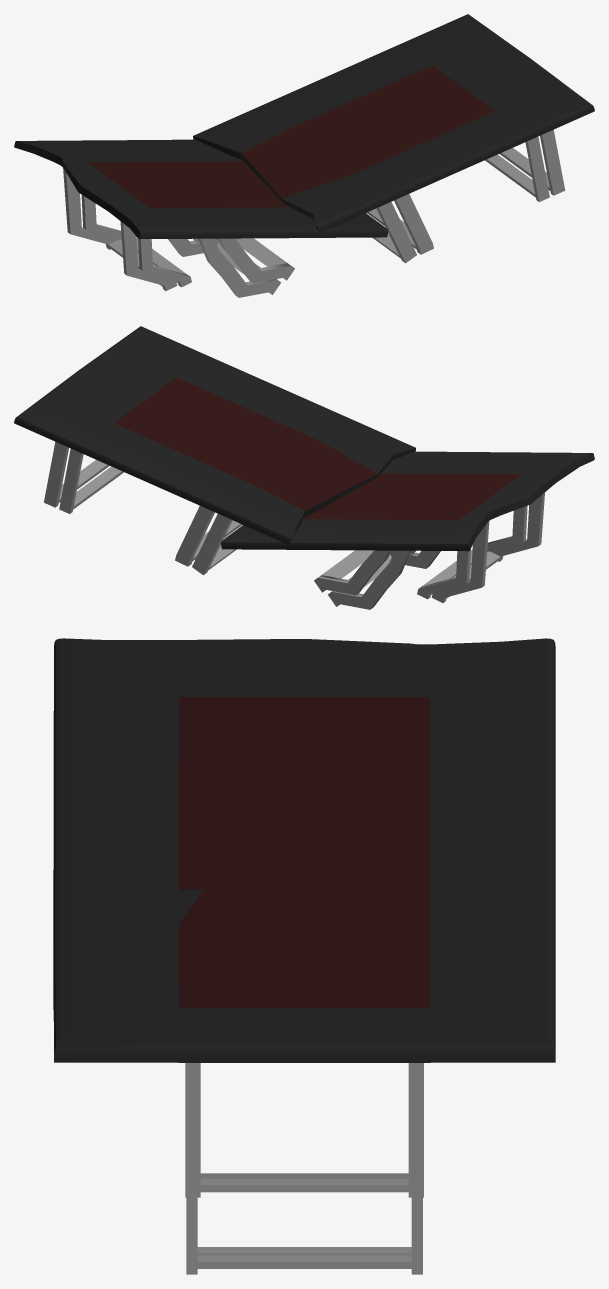
The model's file is FBX_Tablecasse.fbx.
3 views of the same model, one above another, from view 1: azimuth 30°, elevation 25°; view 2: azimuth 150°, elevation 25°; view 3: azimuth 270°, elevation 25° (orthographic). The views are drawn at different scales.
Visible parts, largest first — view 1: table1; view 2: table1; view 3: table1.
Part boxes in pixels (box(x1,y1,x2,y2)): table1: box(14, 14, 594, 297); table1: box(14, 326, 594, 609); table1: box(53, 638, 555, 1274).
Bounding box in the file's own units: 407 × 123 × 193.
